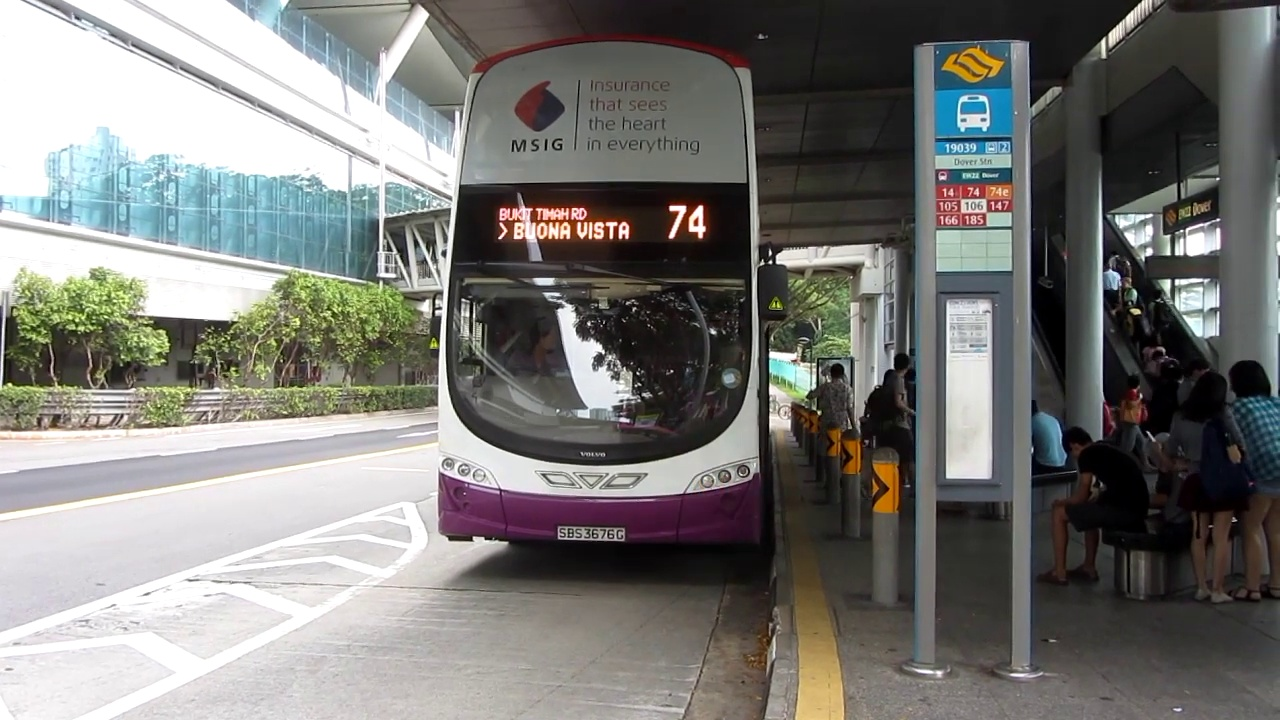bus panel: (493, 201, 712, 244)
